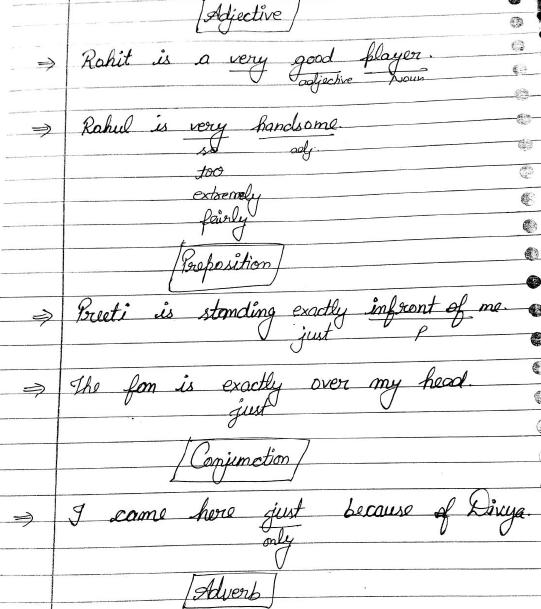text: (66, 486, 533, 539), (73, 291, 506, 343), (68, 361, 471, 408), (76, 36, 435, 85), (79, 113, 345, 155), (187, 438, 292, 485), (178, 248, 275, 284), (199, 0, 285, 37), (189, 181, 265, 218), (189, 574, 264, 604), (197, 204, 251, 241), (223, 395, 273, 431), (289, 320, 335, 355), (260, 526, 296, 570), (296, 70, 355, 93), (386, 68, 427, 89), (191, 164, 228, 181), (288, 140, 314, 162), (196, 142, 221, 161), (413, 322, 431, 345)
